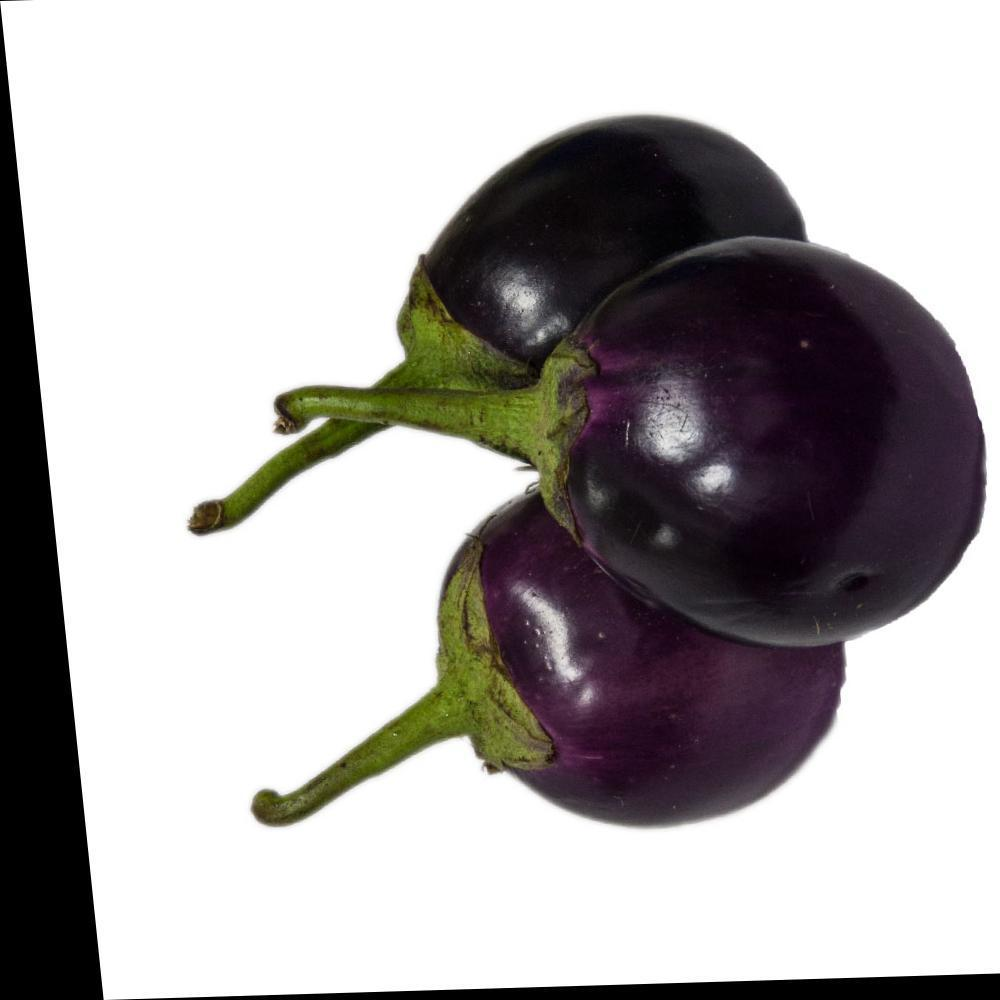eggplant: (306, 73, 994, 673), (194, 322, 891, 904)
